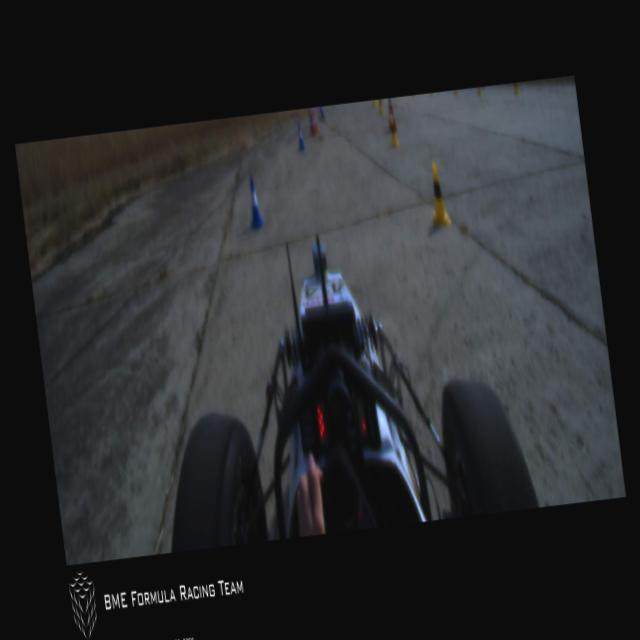blue_cone: (244, 176, 264, 230), (295, 120, 305, 152)
orange_cone: (306, 108, 317, 136)
yellow_cone: (424, 159, 451, 228), (387, 114, 399, 148)
